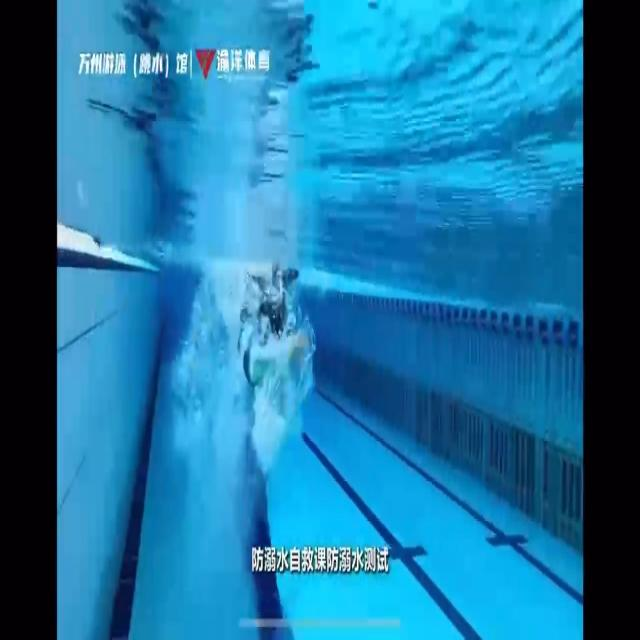Drowning: (236, 258, 317, 389)
